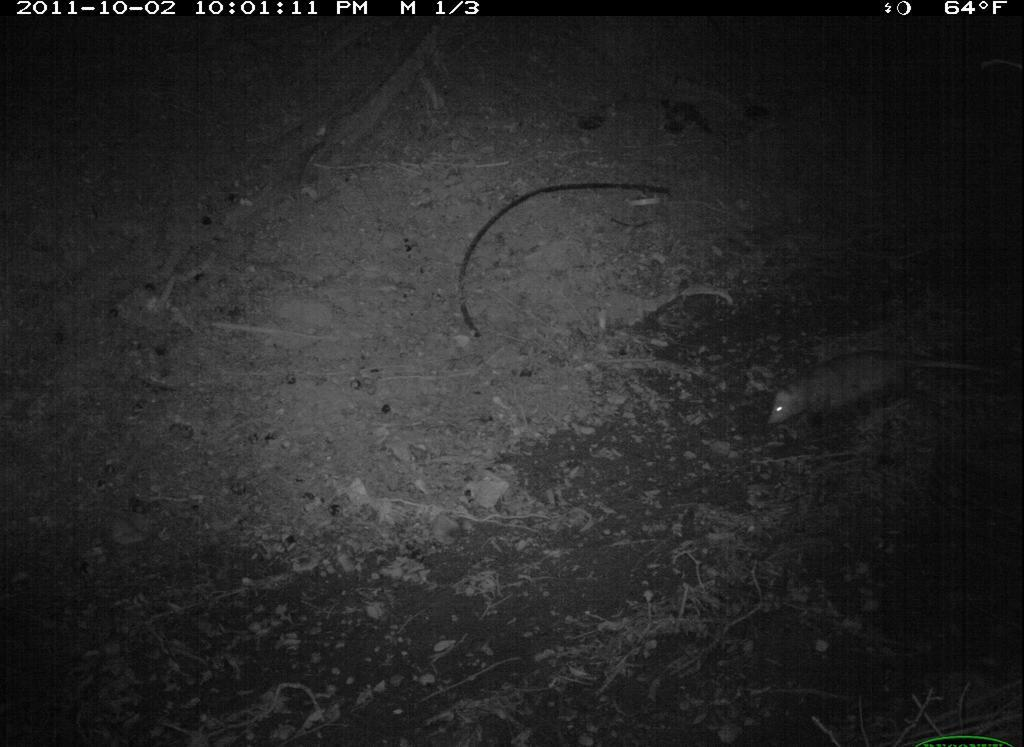opossum: (754, 344, 995, 446)
